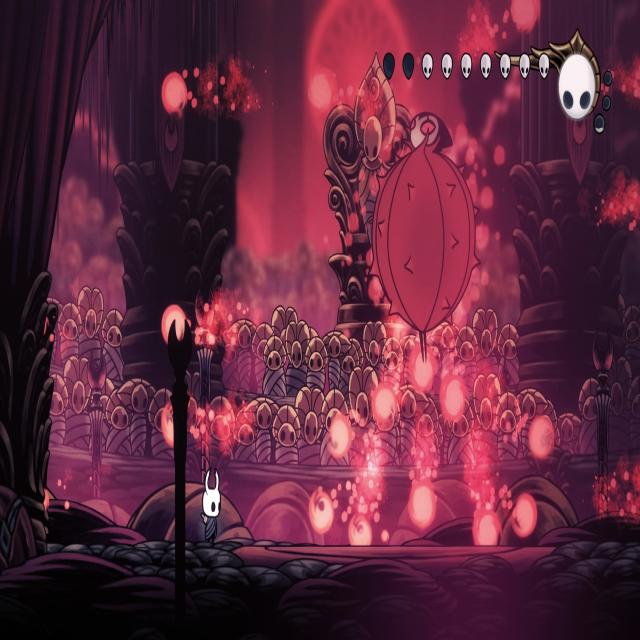Player: (198, 464, 223, 548)
Pufferfish: (365, 110, 483, 370)
Tiny Fireballs: (307, 68, 336, 115), (409, 481, 437, 529), (440, 375, 468, 422), (409, 345, 436, 393), (162, 401, 190, 447), (528, 416, 554, 462), (512, 494, 537, 540), (370, 383, 396, 427), (161, 73, 187, 117), (472, 508, 501, 547), (328, 415, 352, 459), (310, 489, 333, 533), (163, 304, 188, 344), (511, 0, 540, 33), (348, 515, 370, 547)
